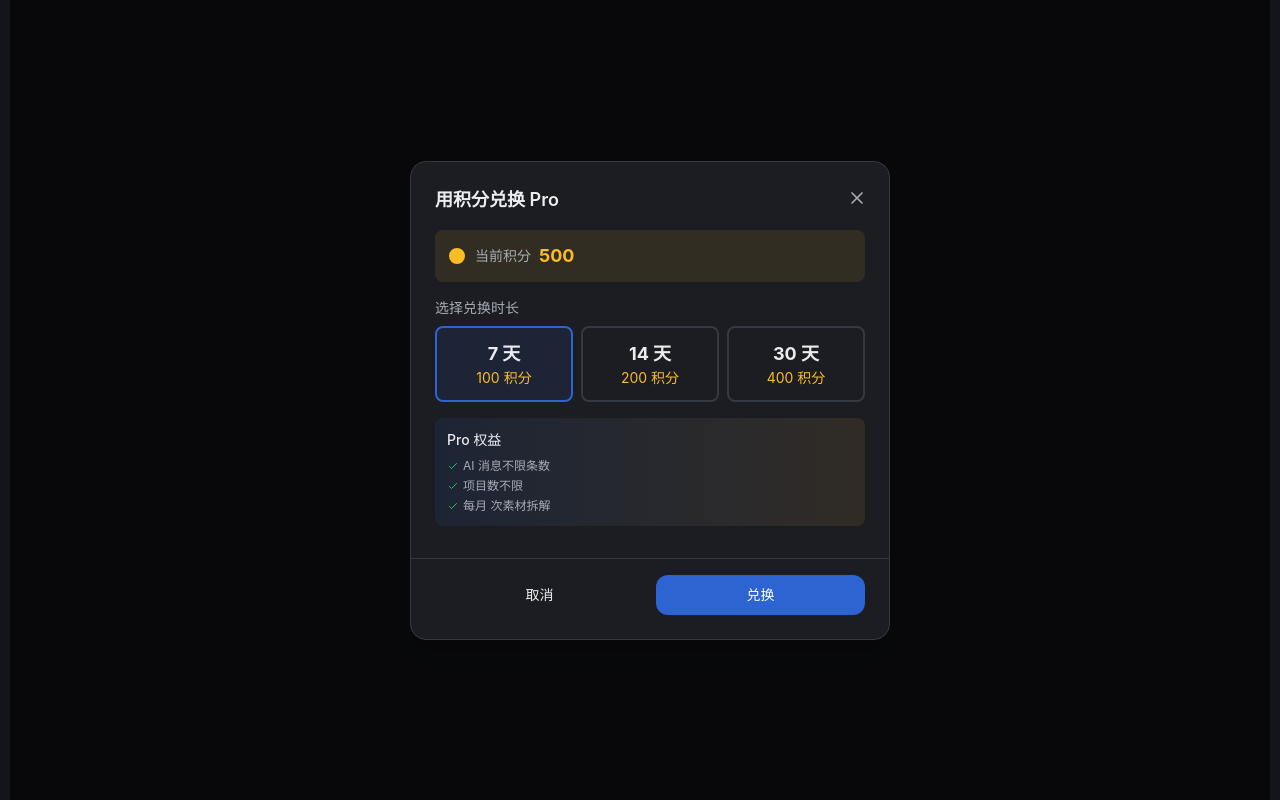
it: RedeemProModal › Redeem Action › shows loading state during redemption
What coordinates should you click on to do the following:
click the button "兑换"
I would click on:
 (760, 594)
Its box is [656, 574, 865, 614].
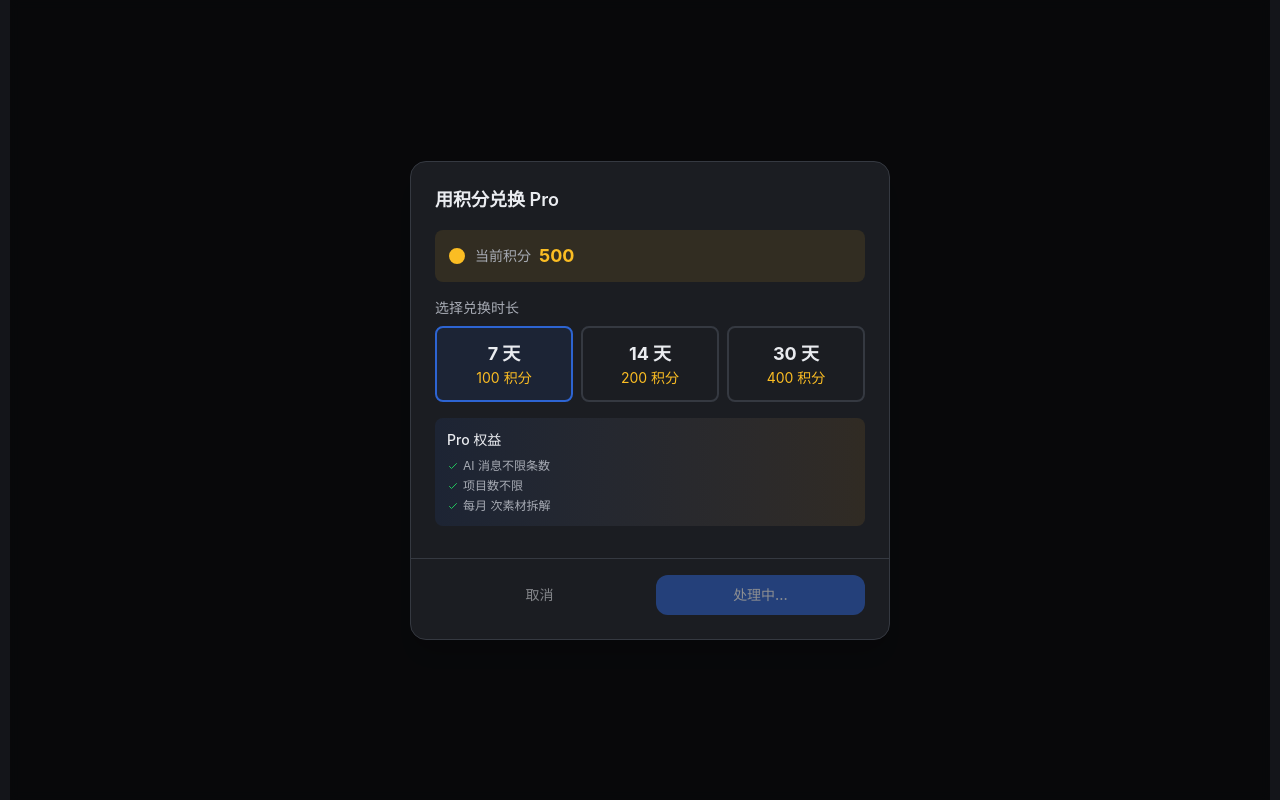
Check: the text "处理中…" is shown, box [733, 584, 788, 604]
